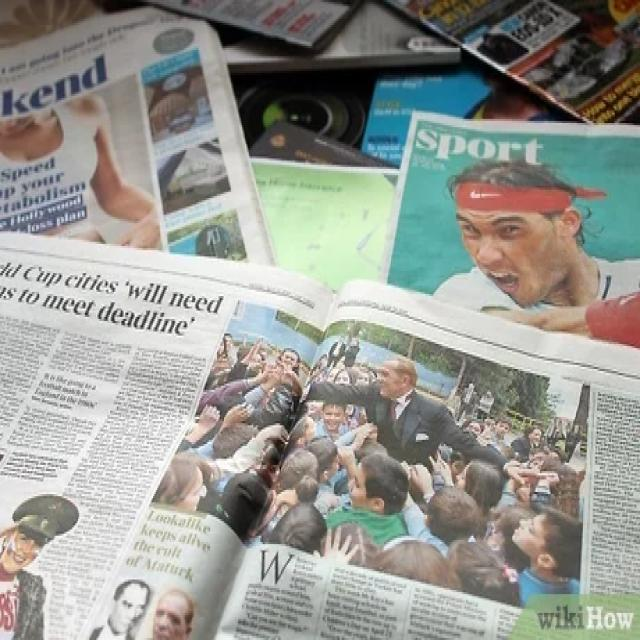newspaper: (0, 229, 640, 640), (1, 17, 279, 272), (378, 105, 640, 341)
